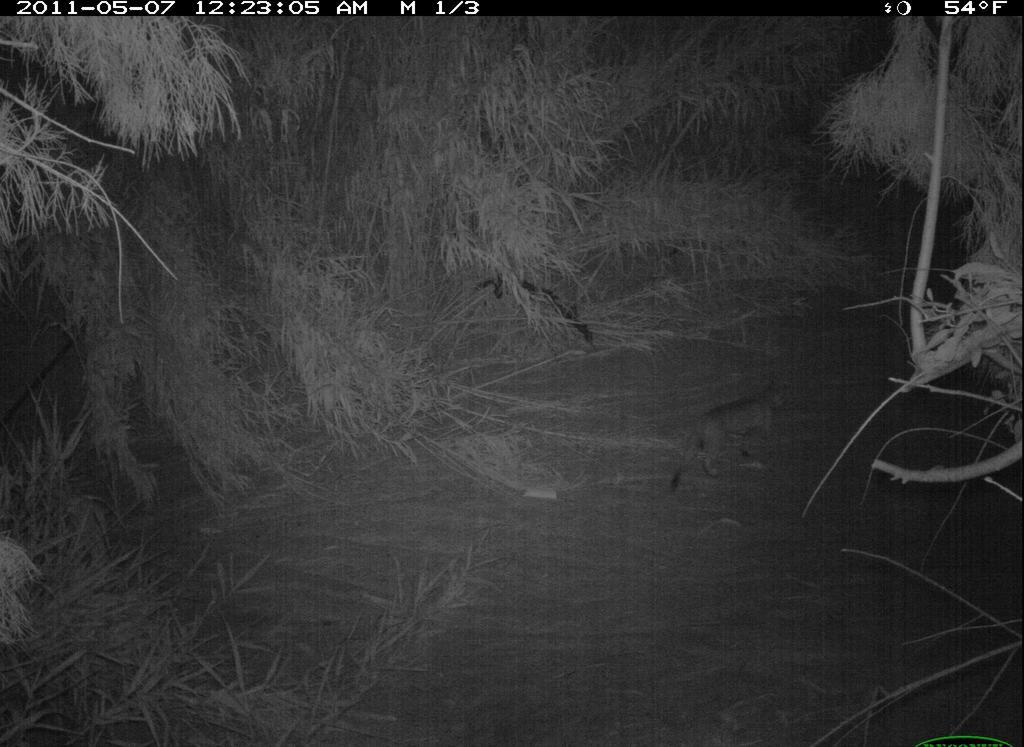bobcat: (666, 377, 793, 497)
